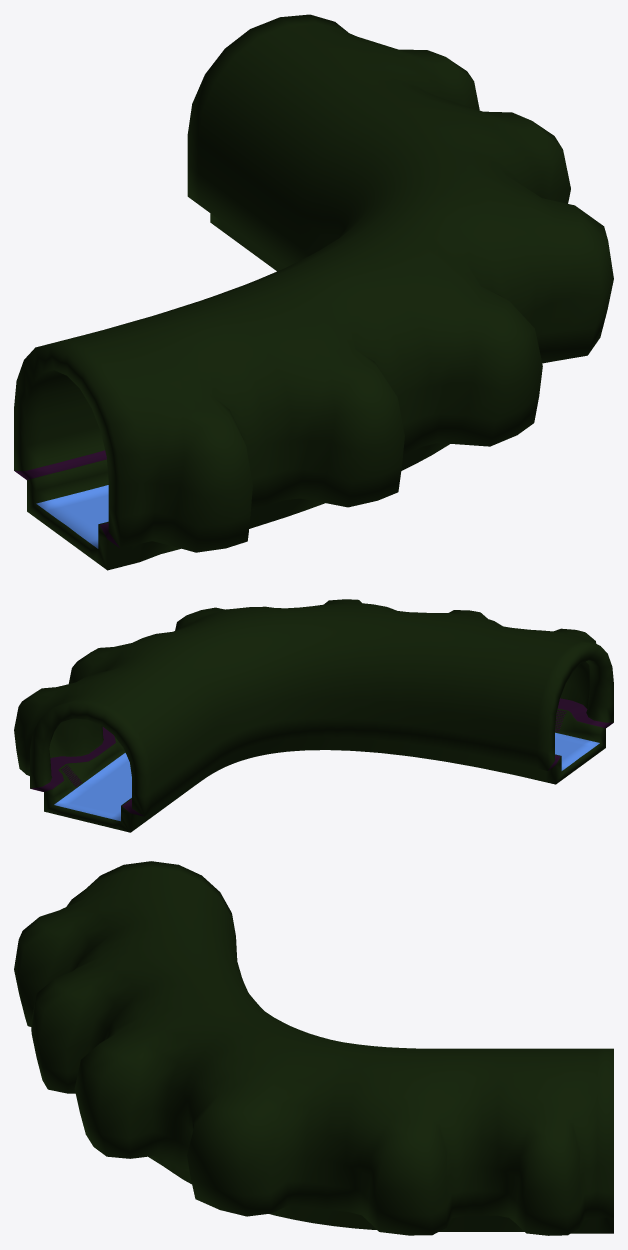
The model's file is SewerModule_Turn_1_002.fbx.
The picture shows the model from 3 angles, top to bottom: view 1: azimuth 30°, elevation 25°; view 2: azimuth 150°, elevation 25°; view 3: azimuth 270°, elevation 25°; orthographic projection. The views are drawn at different scales.
Parts seen in each view (by area): view 1: Module_straight.main.012; view 2: Module_straight.main.012; view 3: Module_straight.main.012.
Boxes of the visible parts, left/top/right/bottom form: Module_straight.main.012: left=14, top=14, right=613, bottom=570; Module_straight.main.012: left=14, top=599, right=613, bottom=832; Module_straight.main.012: left=14, top=861, right=613, bottom=1235.
Bounding box in the file's own units: 36.41 × 10.01 × 36.3.
